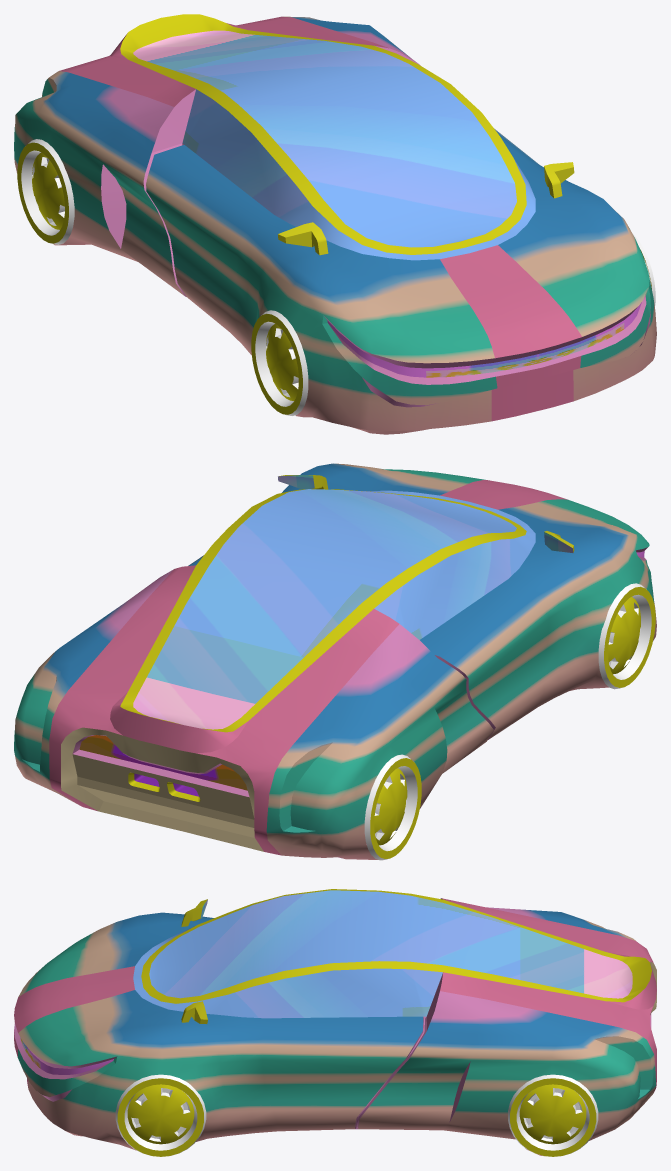
The model's file is FuturisticCar_0_GRP.fbx.
3 renders of one model, top to bottom at view 1: azimuth 30°, elevation 25°; view 2: azimuth 150°, elevation 25°; view 3: azimuth 270°, elevation 25°, orthographic. The views are drawn at different scales.
Parts seen in each view (by area): view 1: FuturisticCar_0_mesh, FuturisticCar_0_Wheel_BR_mesh, FuturisticCar_0_Wheel_FR_mesh; view 2: FuturisticCar_0_mesh, FuturisticCar_0_Wheel_BR_mesh, FuturisticCar_0_Wheel_FR_mesh; view 3: FuturisticCar_0_mesh, FuturisticCar_0_Wheel_FL_mesh, FuturisticCar_0_Wheel_BL_mesh.
Boxes of the visible parts, x1=… form: FuturisticCar_0_mesh: x1=14, y1=14, x2=656, y2=434; FuturisticCar_0_Wheel_BR_mesh: x1=17, y1=139, x2=74, y2=244; FuturisticCar_0_Wheel_FR_mesh: x1=251, y1=310, x2=308, y2=415; FuturisticCar_0_mesh: x1=14, y1=463, x2=656, y2=859; FuturisticCar_0_Wheel_BR_mesh: x1=364, y1=754, x2=421, y2=860; FuturisticCar_0_Wheel_FR_mesh: x1=598, y1=583, x2=655, y2=689; FuturisticCar_0_mesh: x1=14, y1=889, x2=656, y2=1156; FuturisticCar_0_Wheel_FL_mesh: x1=115, y1=1074, x2=206, y2=1156; FuturisticCar_0_Wheel_BL_mesh: x1=508, y1=1074, x2=598, y2=1156.
Bounding box in the file's own units: 1.67 × 0.8964 × 3.12.
